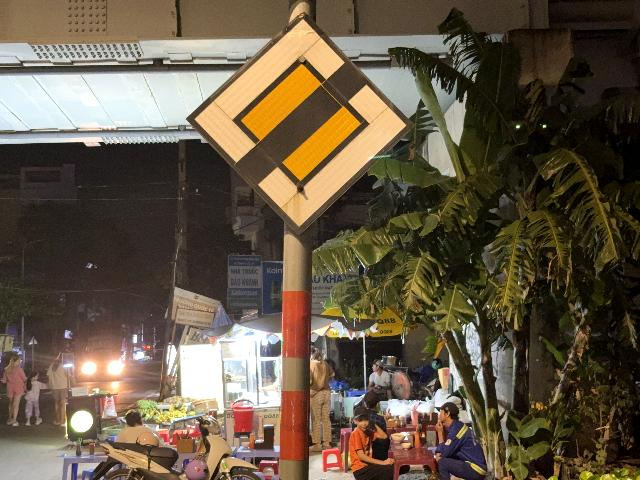het-duong-uu-tien: (186, 12, 415, 237)
